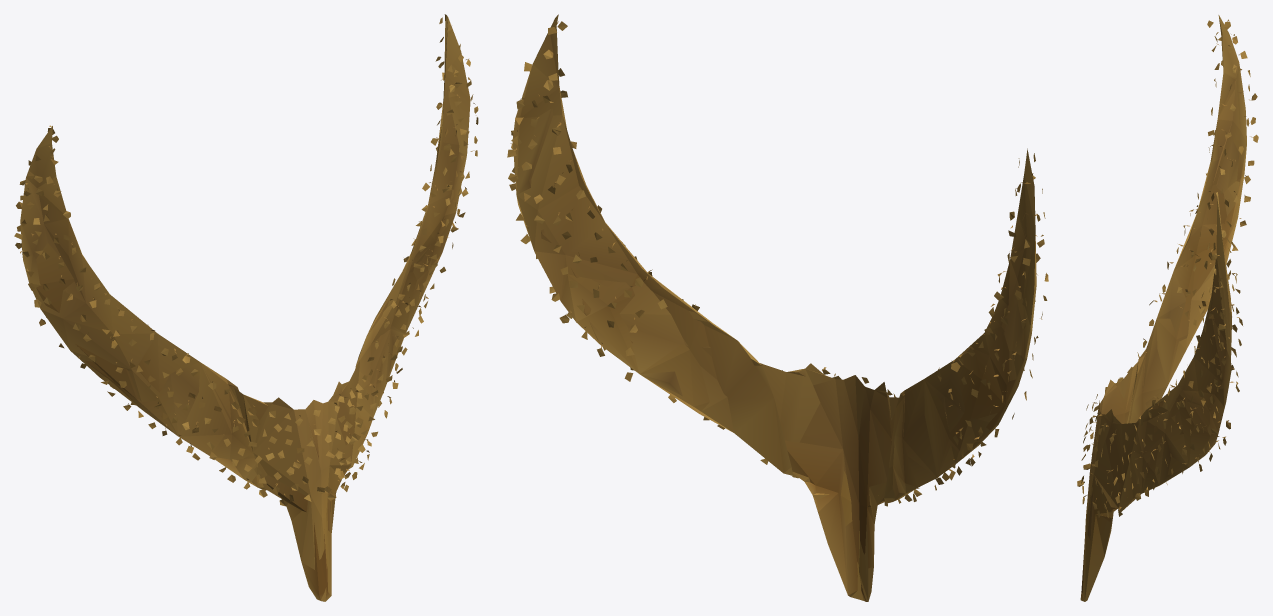
Rendered from geumgwanchong_tomb_pure_gold_crown_ornam_aa582289.glb.
3 renders of one model, left to right at view 1: azimuth 30°, elevation 25°; view 2: azimuth 150°, elevation 25°; view 3: azimuth 270°, elevation 25°, orthographic. The views are drawn at different scales.
Parts seen in each view (by area): view 1: SM_ShillaGoldDeco_02_lambert1_0; view 2: SM_ShillaGoldDeco_02_lambert1_0; view 3: SM_ShillaGoldDeco_02_lambert1_0.
Part boxes in pixels (box(x1,y1,x2,y2)): SM_ShillaGoldDeco_02_lambert1_0: box(14, 14, 478, 601); SM_ShillaGoldDeco_02_lambert1_0: box(507, 14, 1048, 601); SM_ShillaGoldDeco_02_lambert1_0: box(1077, 15, 1258, 601).
Bounding box in the file's own units: 0.4127 × 0.4261 × 0.14.
